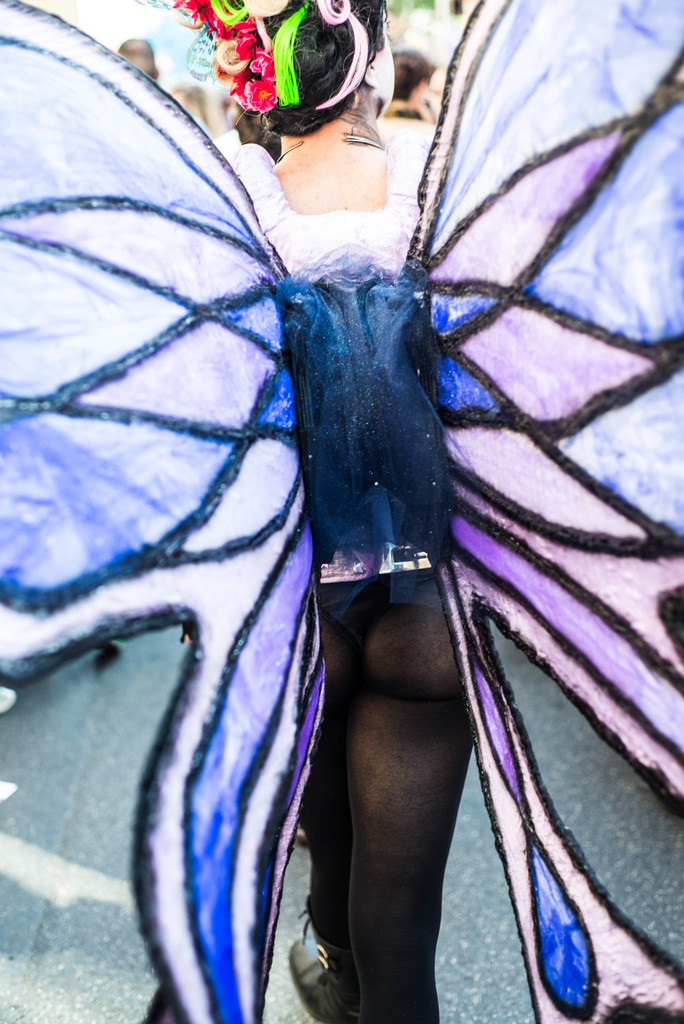Person: (117, 0, 473, 1023)
